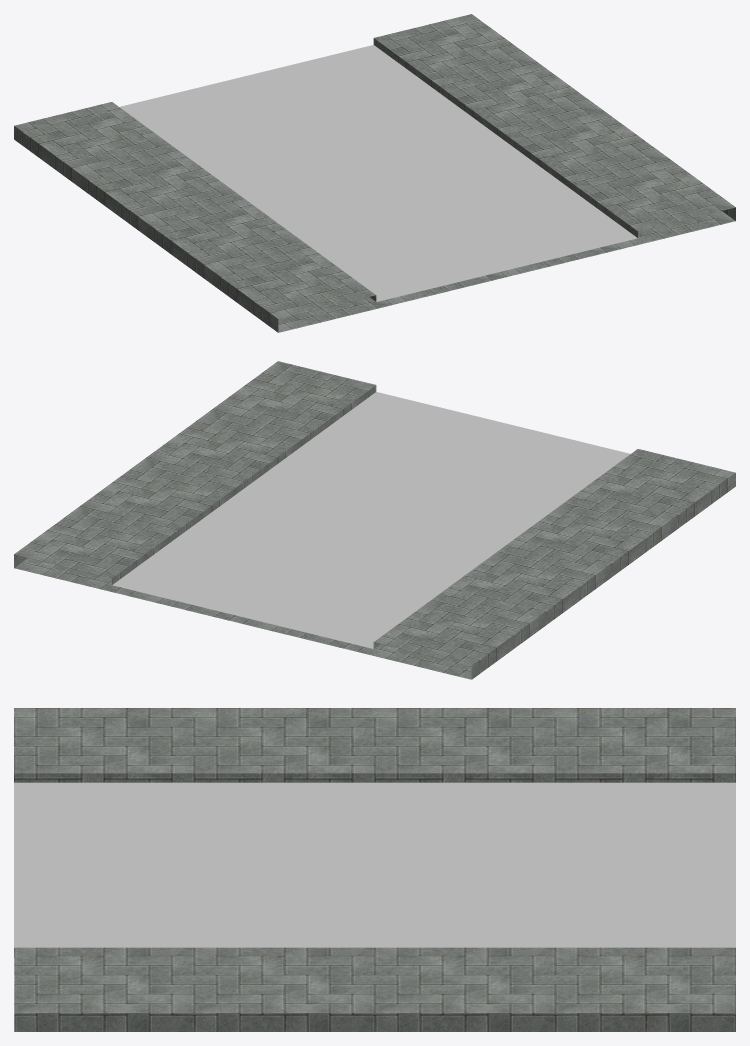
File: Straight.fbx
3 renders of one model, top to bottom at view 1: azimuth 30°, elevation 25°; view 2: azimuth 150°, elevation 25°; view 3: azimuth 270°, elevation 25°, orthographic. The views are drawn at different scales.
Parts seen in each view (by area): view 1: Plane; view 2: Plane; view 3: Plane.
Part boxes in pixels (bbox=[...]): Plane: bbox=[14, 14, 735, 332]; Plane: bbox=[14, 361, 735, 679]; Plane: bbox=[14, 708, 735, 1031].
Bounding box in the file's own units: 1400 × 40 × 1400.
